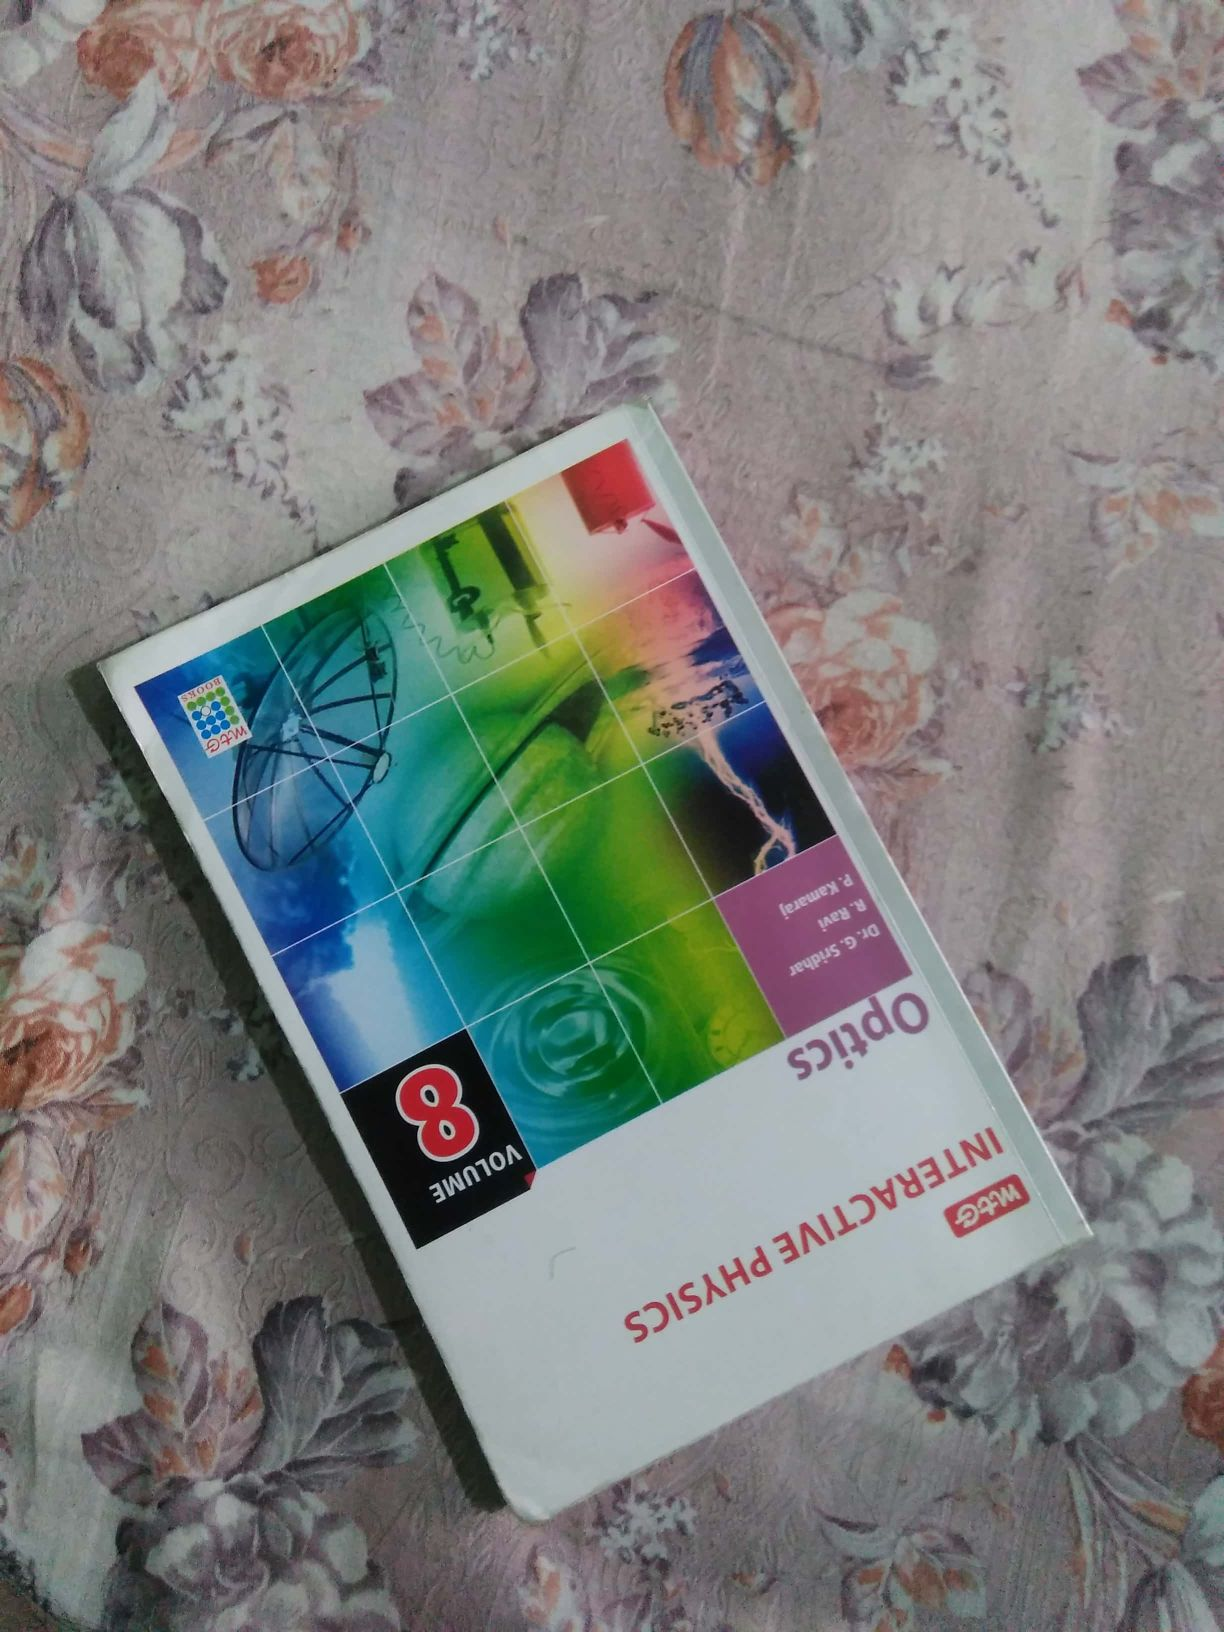optics: (132, 395, 1063, 1493)
